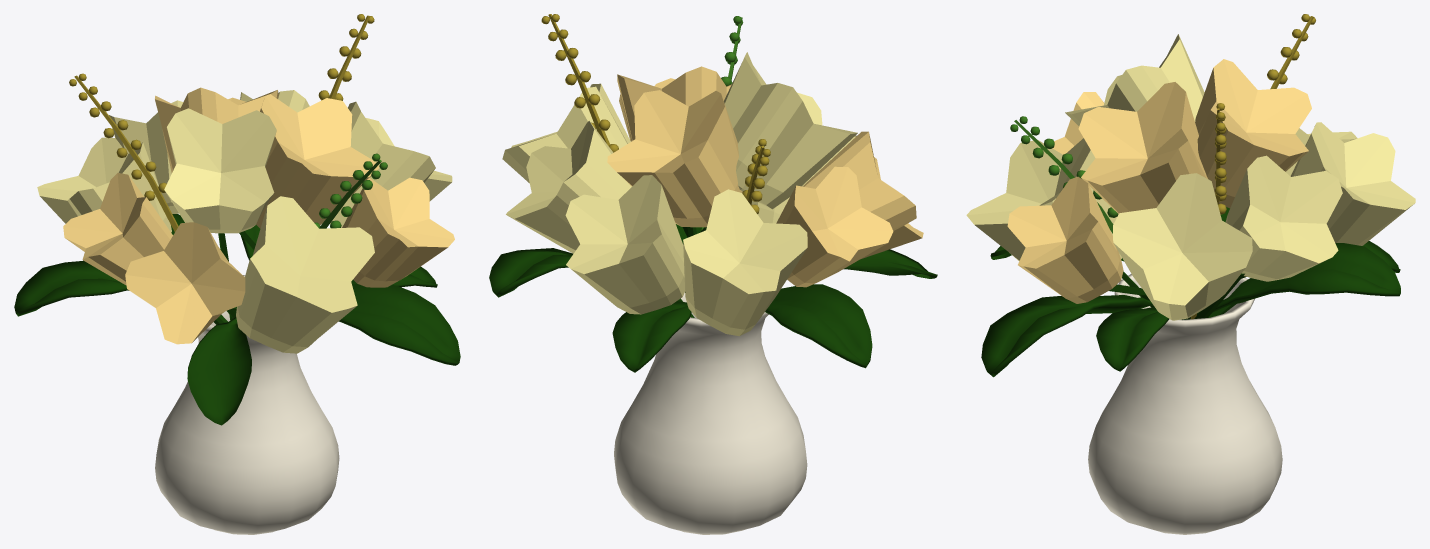
The model's file is Flowers_in_vase.fbx.
The picture shows the model from 3 angles, left to right: view 1: azimuth 30°, elevation 25°; view 2: azimuth 150°, elevation 25°; view 3: azimuth 270°, elevation 25°; orthographic projection. The views are drawn at different scales.
Parts seen in each view (by area): view 1: Flowers_in_vase; view 2: Flowers_in_vase; view 3: Flowers_in_vase.
Part boxes in pixels (x1,y1,x2,y2): Flowers_in_vase: (14, 14, 460, 534); Flowers_in_vase: (489, 14, 937, 534); Flowers_in_vase: (966, 14, 1415, 534).
Bounding box in the file's own units: 40.18 × 45.08 × 38.54.
